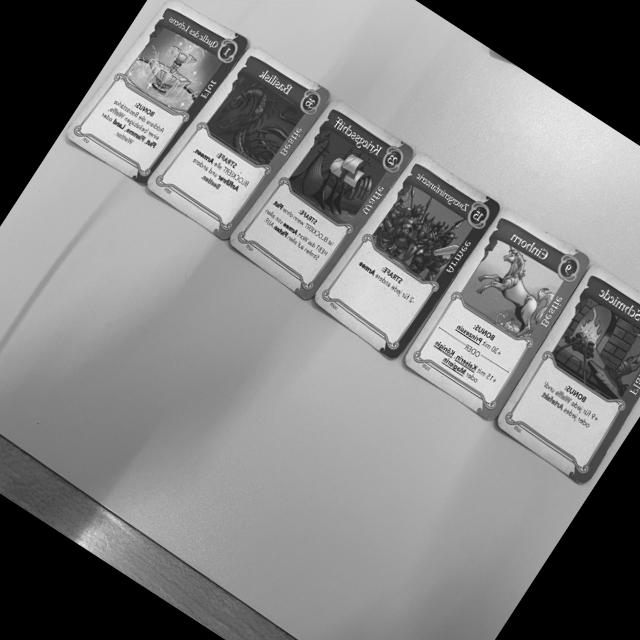Basilisk: (140, 36, 337, 261)
Dwarvish Infantry: (309, 150, 502, 366)
Forge: (491, 262, 640, 485)
Fountain Of Life: (59, 0, 252, 197)
Unicorn: (400, 198, 600, 425)
Warship: (224, 97, 419, 306)
